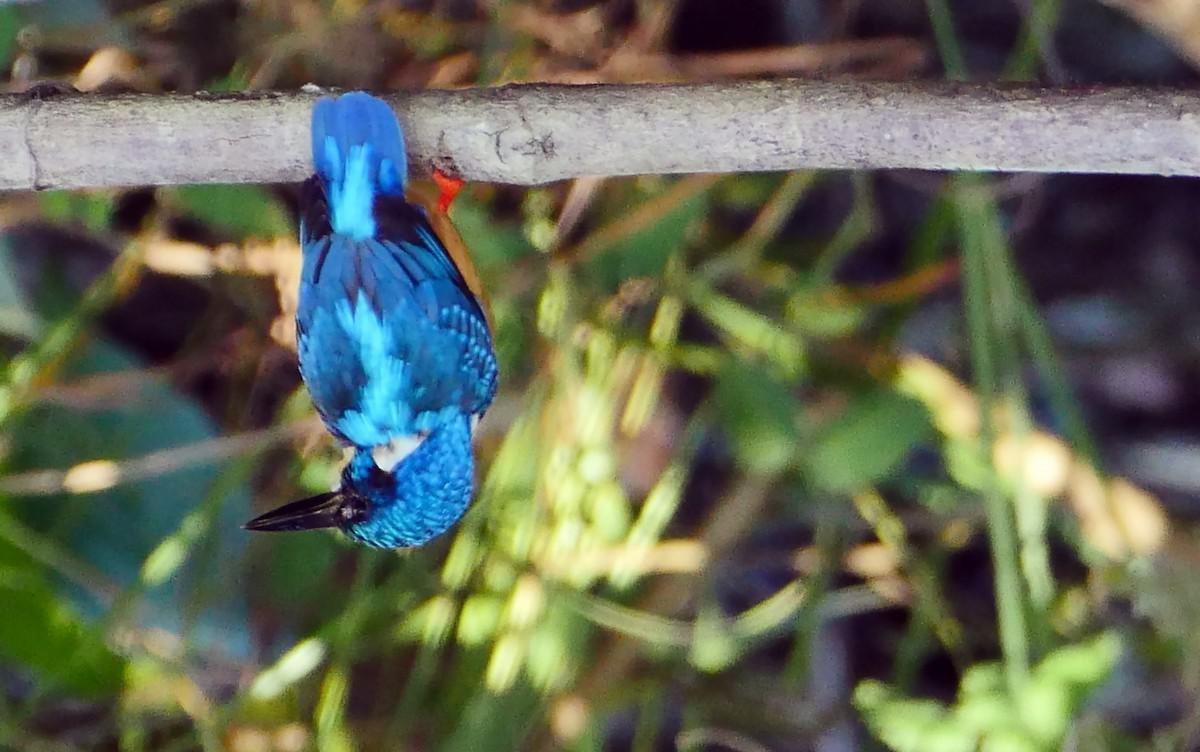kingfisher: (221, 78, 526, 551)
